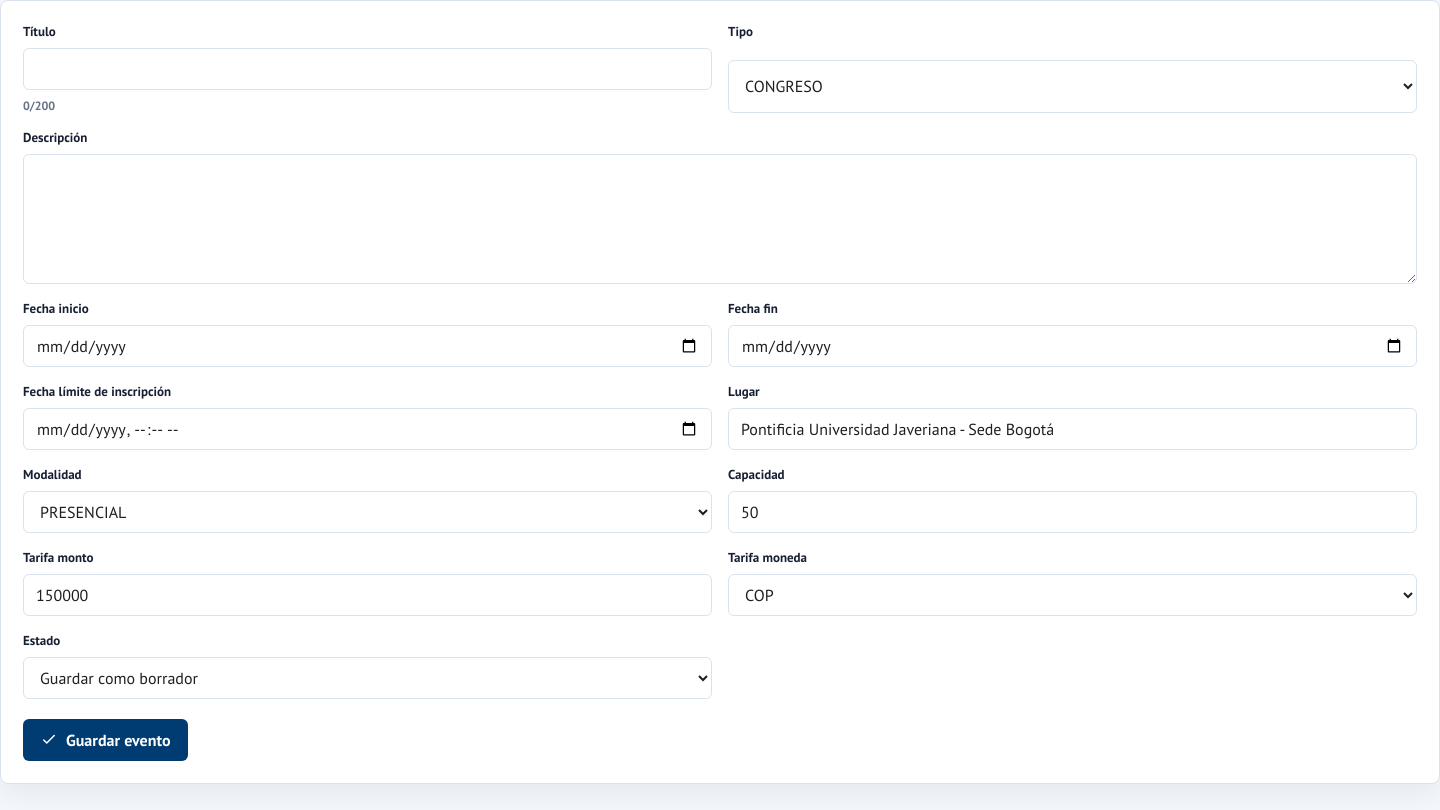
Test: EventoForm › valida campos requeridos antes de enviar
Click the button "Guardar evento" at (105, 740), box top-left (23, 719), bottom-right (188, 761)
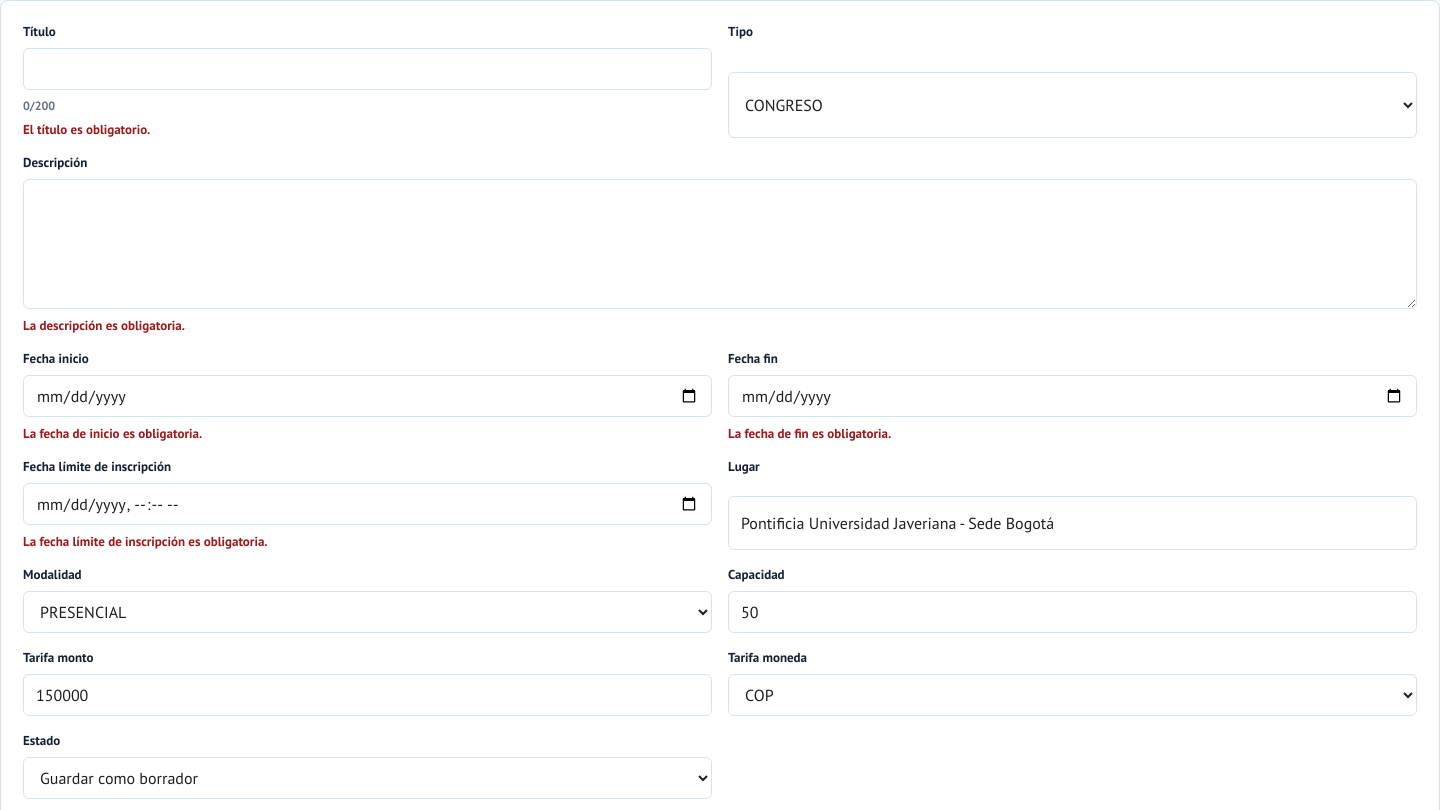
Expected: the text "El título es obligatorio." is shown, top-left (23, 121), bottom-right (150, 138)
Expected: the text "La descripción es obligatoria." is shown, top-left (23, 317), bottom-right (185, 334)
